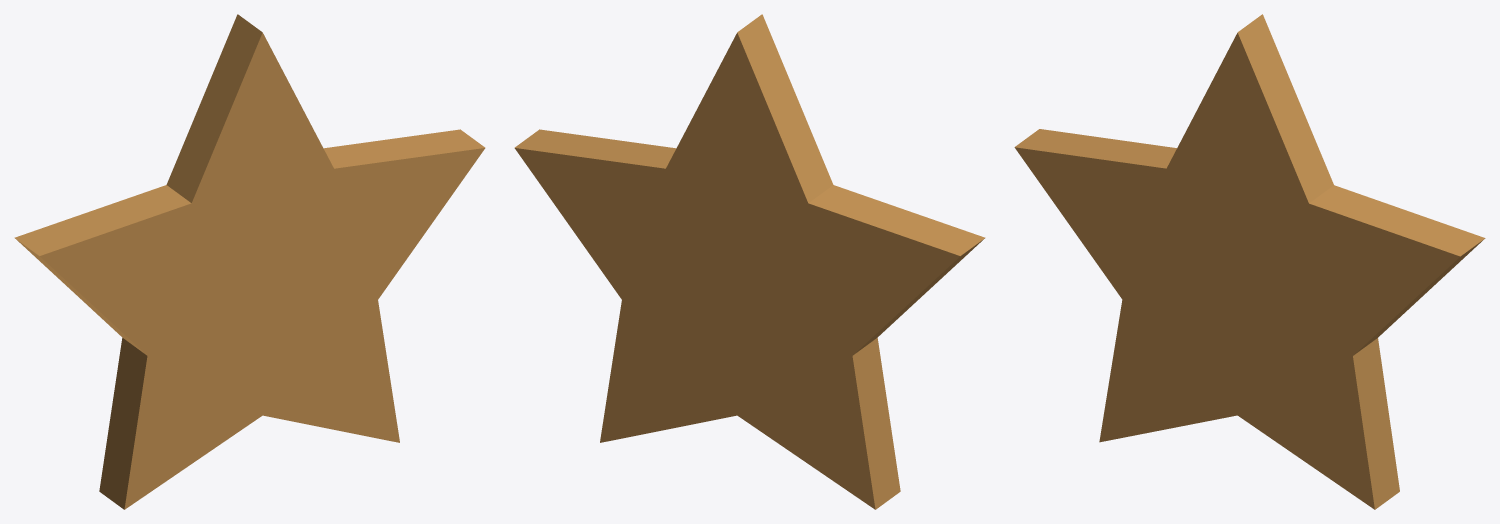
Rendered from SM_Icon_Star_02.fbx.
3 views of the same model, side by side, from view 1: azimuth 30°, elevation 25°; view 2: azimuth 150°, elevation 25°; view 3: azimuth 330°, elevation 25° (orthographic).
Parts seen in each view (by area): view 1: SM_Icon_Star_02; view 2: SM_Icon_Star_02; view 3: SM_Icon_Star_02.
Part boxes in pixels (left/top/right/bottom): SM_Icon_Star_02: left=14, top=14, right=485, bottom=509; SM_Icon_Star_02: left=514, top=14, right=985, bottom=509; SM_Icon_Star_02: left=1014, top=14, right=1485, bottom=509.
Size of the model in its own units: 51.23 by 48.74 by 5.
